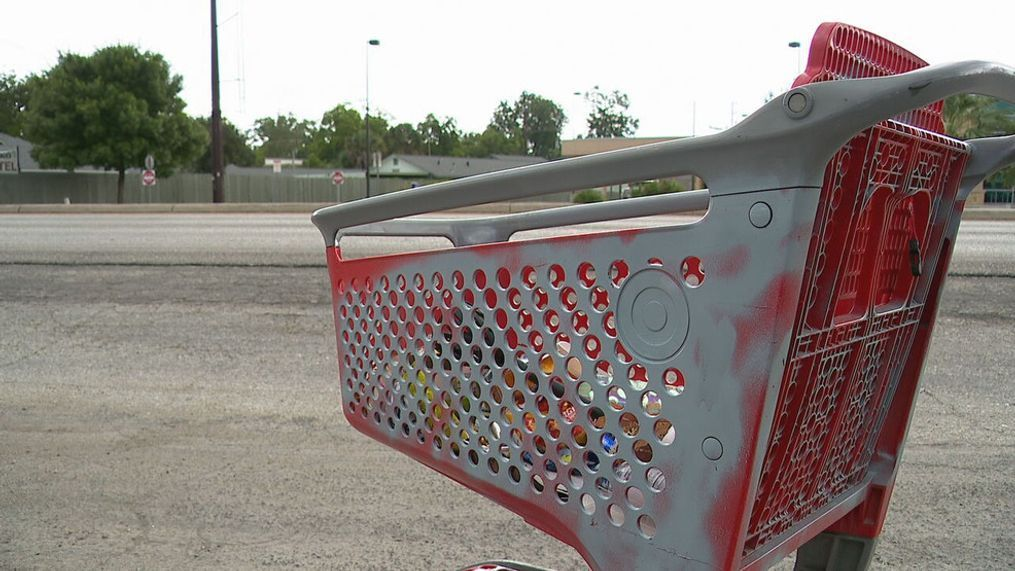Tree: (19, 35, 210, 218)
shopping_cart: (313, 16, 1003, 571)
